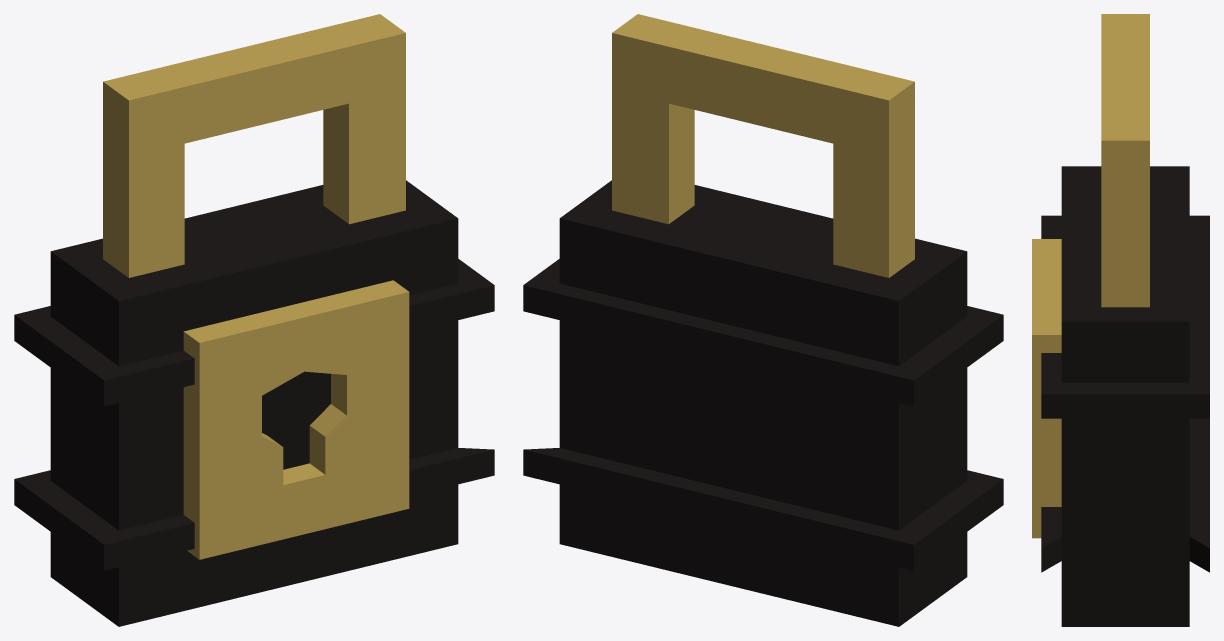
File: ChurchExteriorGateLock.fbx
3 renders of one model, left to right at view 1: azimuth 30°, elevation 25°; view 2: azimuth 150°, elevation 25°; view 3: azimuth 270°, elevation 25°, orthographic. The views are drawn at different scales.
Parts seen in each view (by area): view 1: pCube438; view 2: pCube438; view 3: pCube438.
Boxes of the visible parts, box(x1,y1,x2,y2) form: pCube438: box(14, 14, 494, 626); pCube438: box(523, 14, 1003, 626); pCube438: box(1032, 14, 1209, 626).
Size of the model in its own units: 0.3593 by 0.4424 by 0.1511.
